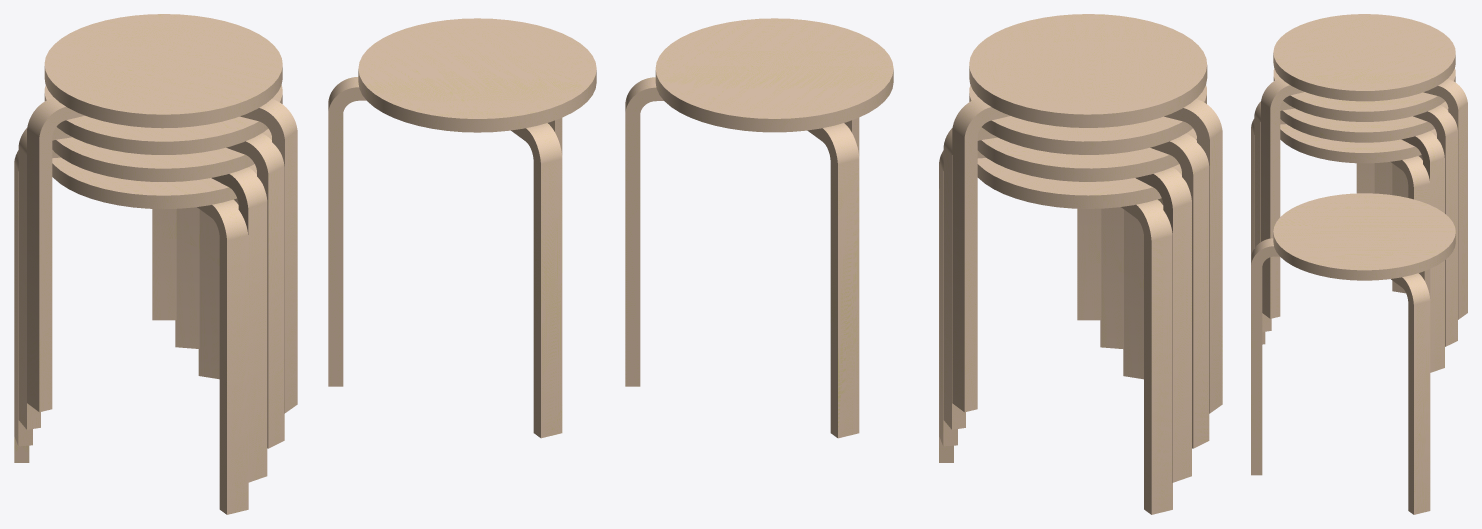
3 views of the same model, side by side, from view 1: azimuth 30°, elevation 25°; view 2: azimuth 150°, elevation 25°; view 3: azimuth 270°, elevation 25° (orthographic). The views are drawn at different scales.
Parts seen in each view (by area): view 1: leg (×12), top (×5); view 2: leg (×12), top (×5); view 3: top (×5), leg (×12).
Part boxes in pixels (x1,y1,x2,y2): leg (×12): [14, 77, 562, 514]; top (×5): [44, 14, 596, 209]; leg (×12): [625, 77, 1222, 514]; top (×5): [655, 14, 1207, 208]; top (×5): [1273, 14, 1455, 280]; leg (×12): [1251, 78, 1467, 514].
Bounding box in the file's own units: 32.58 × 14.27 × 21.88.
